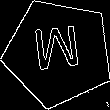M_S: (32, 25, 85, 81)
